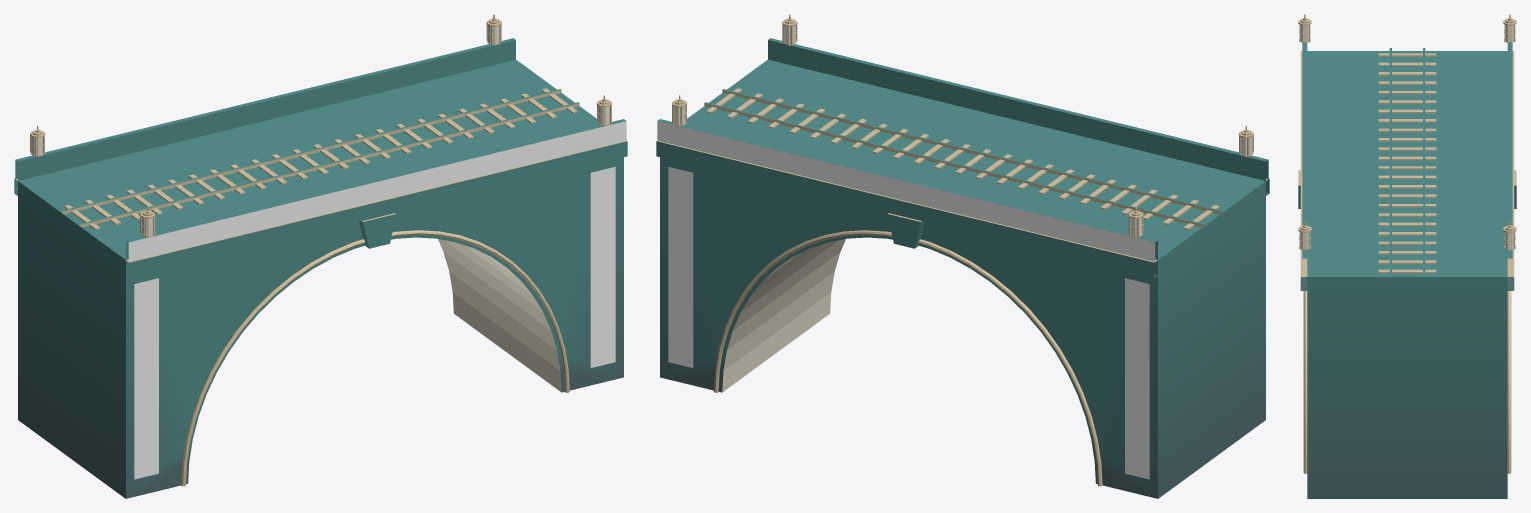
File: KC32__AD_Ext_Viaduct_Arch.glb
3 renders of one model, left to right at view 1: azimuth 30°, elevation 25°; view 2: azimuth 150°, elevation 25°; view 3: azimuth 270°, elevation 25°, orthographic. The views are drawn at different scales.
Visible parts, largest first — view 1: KC32_CORPS__AD_Ext_Viaduct_Arch, KC32_ACCENT__AD_Ext_Viaduct_Arch, KC32_BRONZE__AD_Ext_Viaduct_Arch, KC32_LUMIERE__AD_Ext_Viaduct_Arch; view 2: KC32_CORPS__AD_Ext_Viaduct_Arch, KC32_ACCENT__AD_Ext_Viaduct_Arch, KC32_BRONZE__AD_Ext_Viaduct_Arch, KC32_LUMIERE__AD_Ext_Viaduct_Arch; view 3: KC32_CORPS__AD_Ext_Viaduct_Arch, KC32_BRONZE__AD_Ext_Viaduct_Arch, KC32_LUMIERE__AD_Ext_Viaduct_Arch.
Boxes of the visible parts, x1,y1,x2,y2 form: KC32_CORPS__AD_Ext_Viaduct_Arch: (14, 38, 627, 498); KC32_ACCENT__AD_Ext_Viaduct_Arch: (128, 121, 626, 479); KC32_BRONZE__AD_Ext_Viaduct_Arch: (14, 14, 627, 486); KC32_LUMIERE__AD_Ext_Viaduct_Arch: (31, 25, 609, 392); KC32_CORPS__AD_Ext_Viaduct_Arch: (656, 38, 1269, 498); KC32_ACCENT__AD_Ext_Viaduct_Arch: (657, 121, 1155, 479); KC32_BRONZE__AD_Ext_Viaduct_Arch: (656, 14, 1269, 486); KC32_LUMIERE__AD_Ext_Viaduct_Arch: (674, 25, 1252, 392); KC32_CORPS__AD_Ext_Viaduct_Arch: (1298, 43, 1516, 498); KC32_BRONZE__AD_Ext_Viaduct_Arch: (1298, 14, 1516, 473); KC32_LUMIERE__AD_Ext_Viaduct_Arch: (1299, 25, 1515, 248).
Size of the model in its own units: 24 by 13.3 by 9.8.
